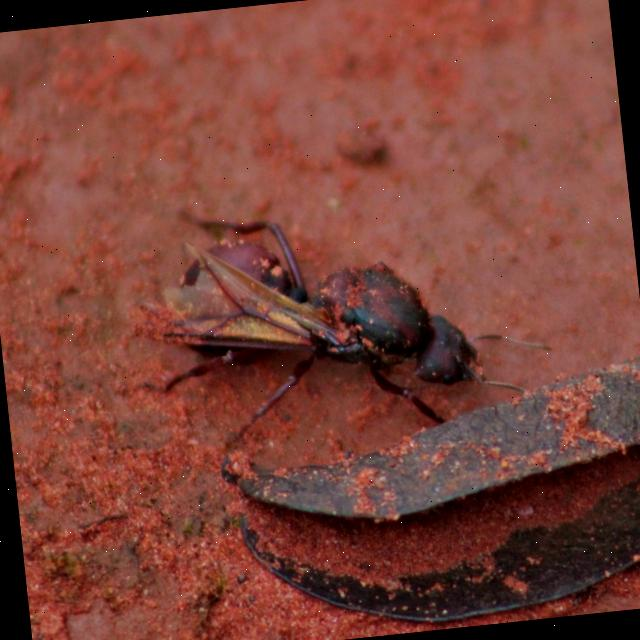Alive-Female-Alate: (95, 174, 562, 494)
